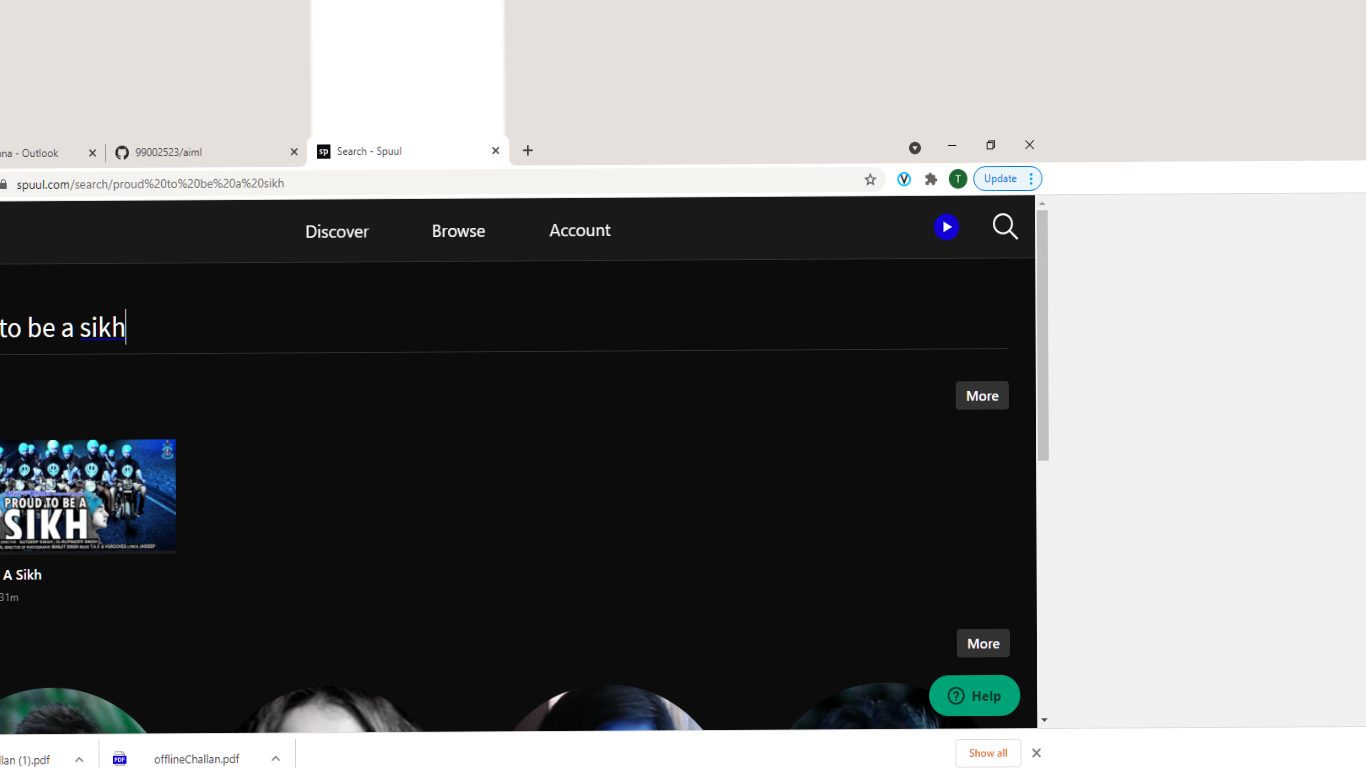myaccountbutton: (533, 209, 637, 253)
resultsfound: (1, 310, 159, 346)
searchicon: (988, 201, 1025, 256)
